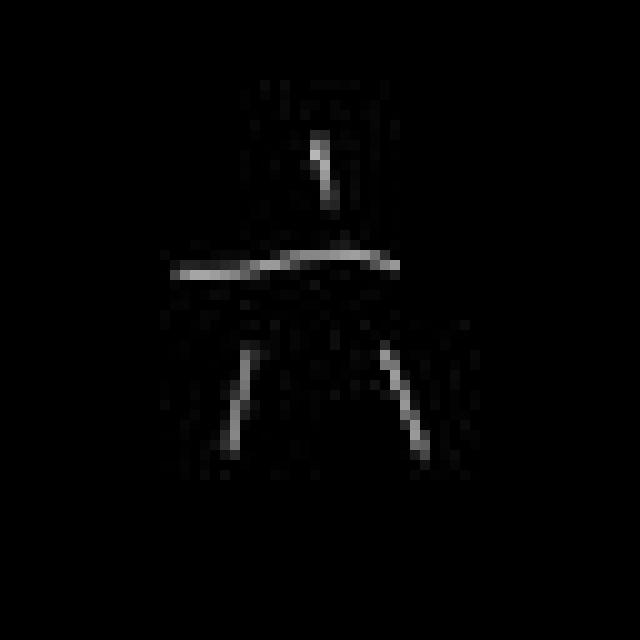6 -six-: (162, 123, 436, 473)
